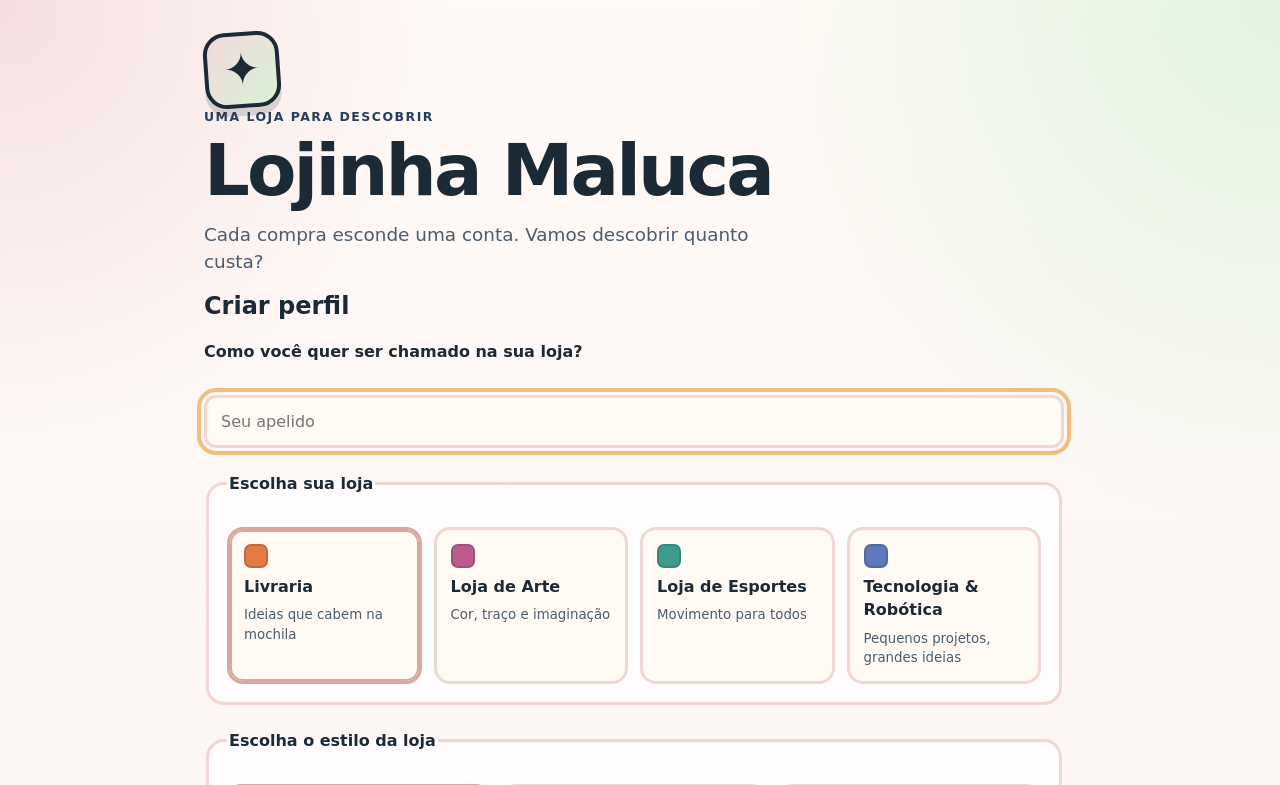
Scenario: app bootstrap › keeps Portuguese content past the entry screen in pt-BR
The image size is (1280, 785).
Type "Pixel" into the field labelled "Como você quer ser chamado na sua loja?" at [634, 422], box [204, 395, 1064, 448]
(page scrolled)
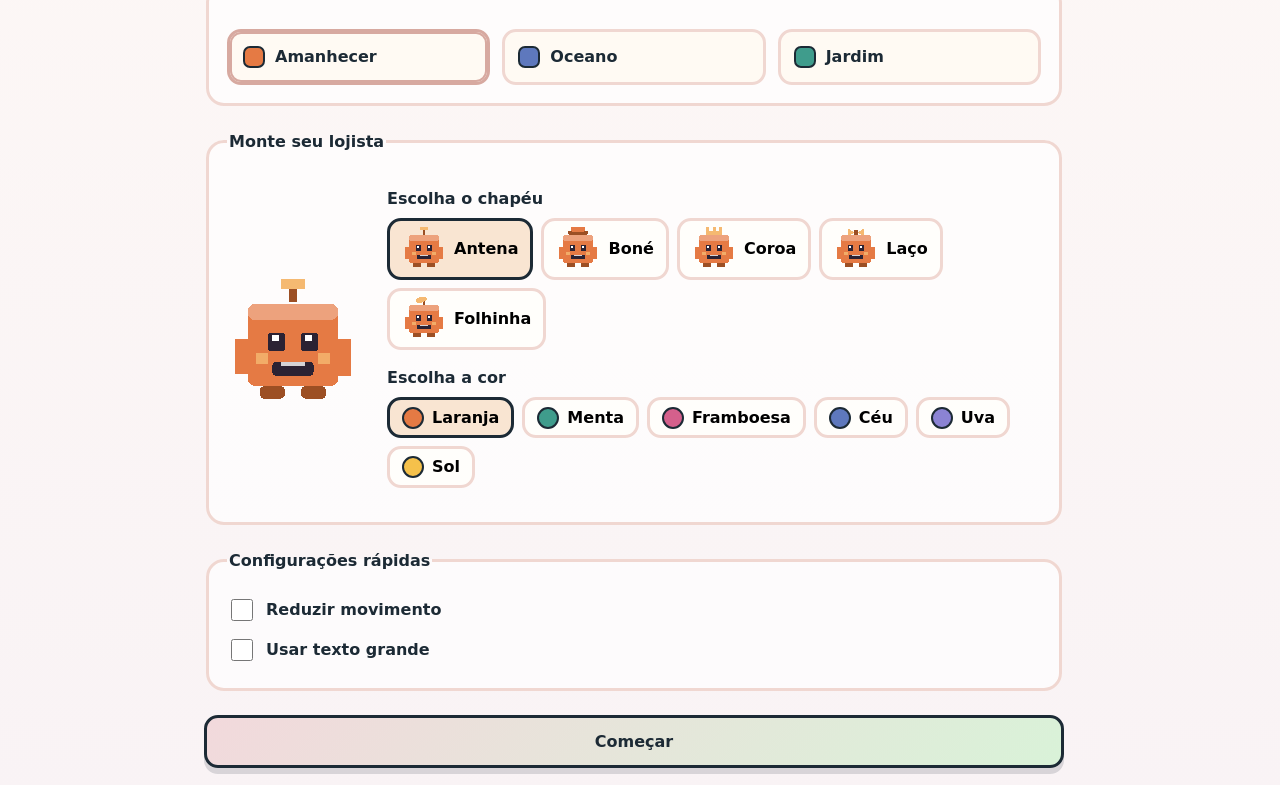
Click the button "Começar" at [634, 741], box [204, 715, 1064, 768]
(page scrolled)
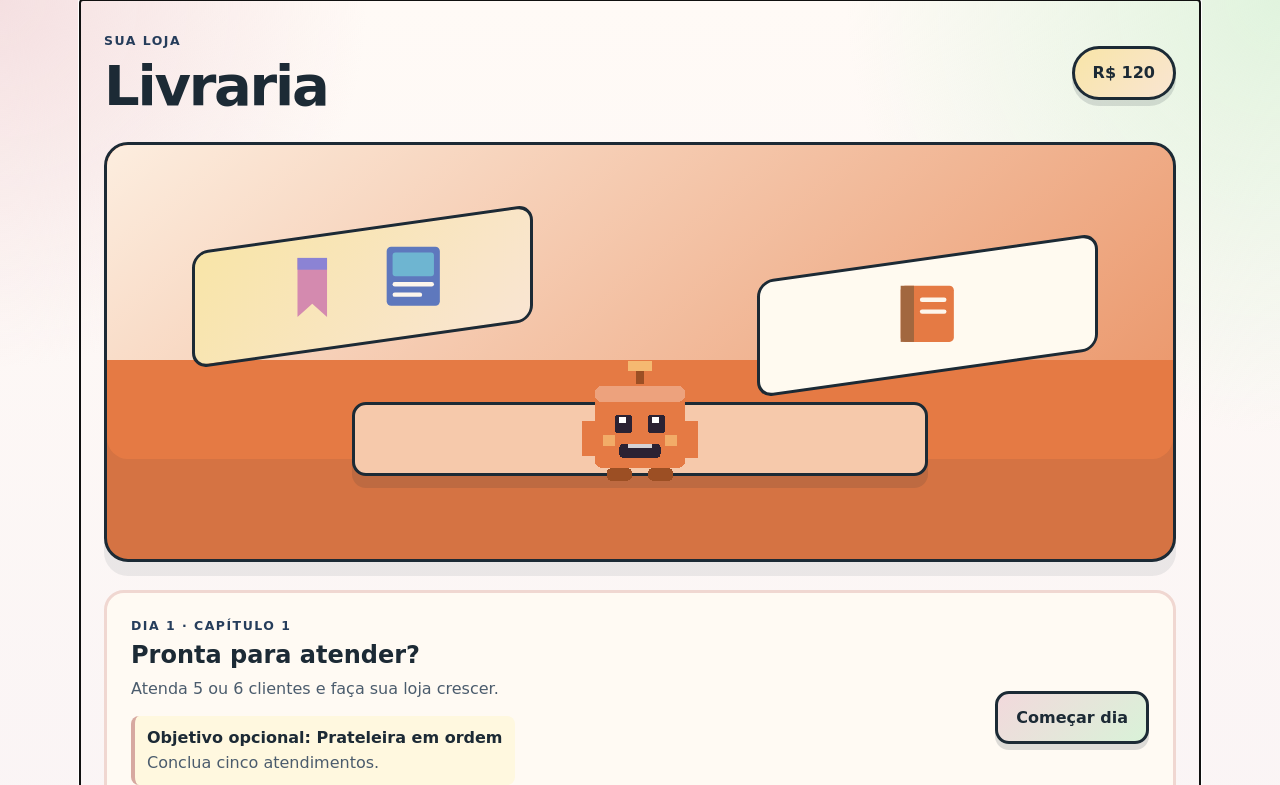
Result: the heading "Livraria" is shown at [104, 58, 328, 114]
Result: the text named "Saldo R$ 120" is shown at [1072, 46, 1176, 100]
